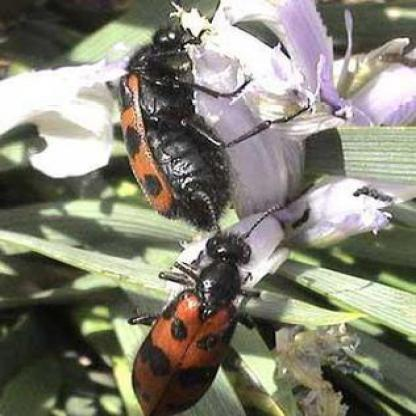beetle: (116, 24, 257, 224), (130, 227, 258, 416)
